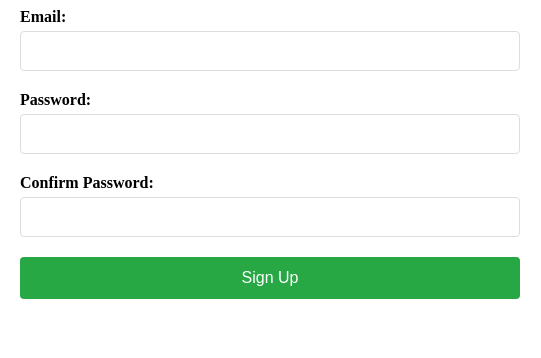
Form Component › Form Validation - Password › should show error when password is less than 6 characters
In the field with test id "email-input": point(270, 51) [20,31,520,71], type "test@example.com"
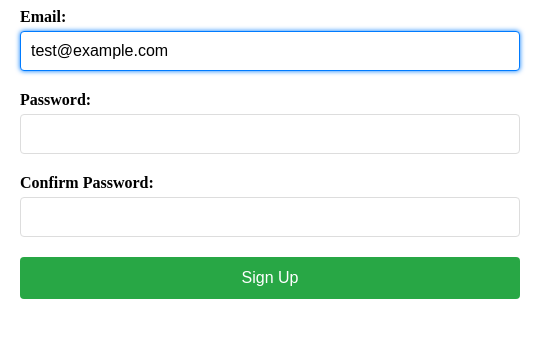
In the password field with test id "password-input": point(270, 134) [20,114,520,154], type "short"
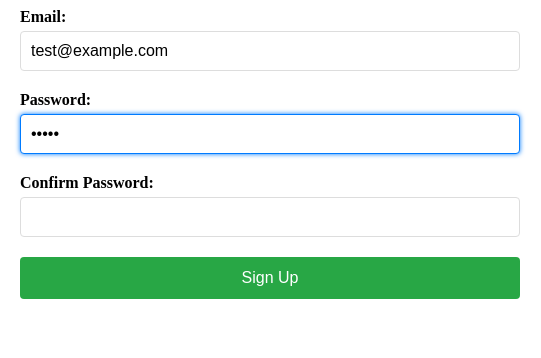
Click the button with test id "submit-button": point(270, 278) [20,257,520,299]
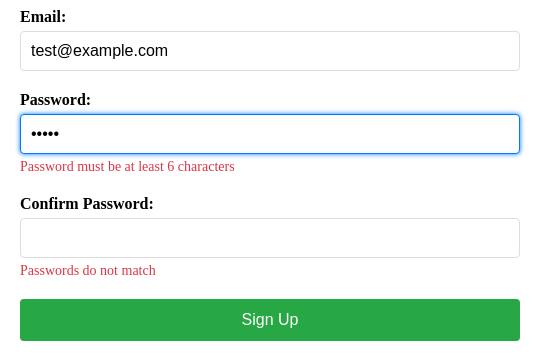
Expected: the text with test id "password-error" reads "Password must be at least 6 characters", [20,159,235,174]
